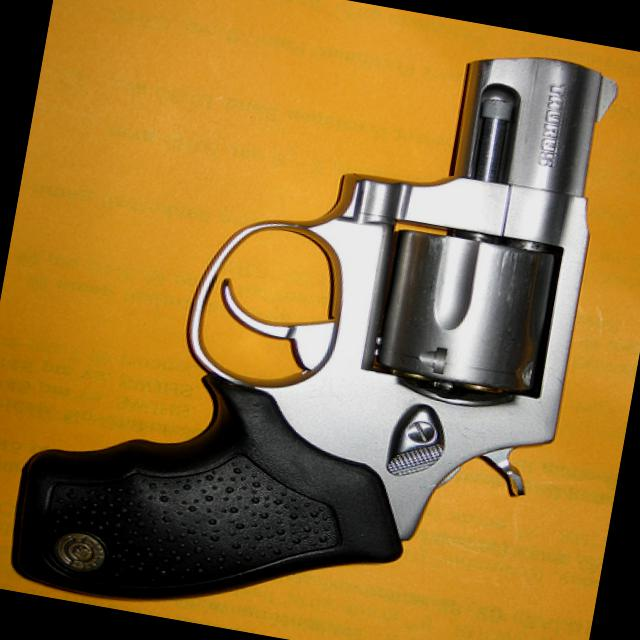handgun: (4, 0, 625, 639)
